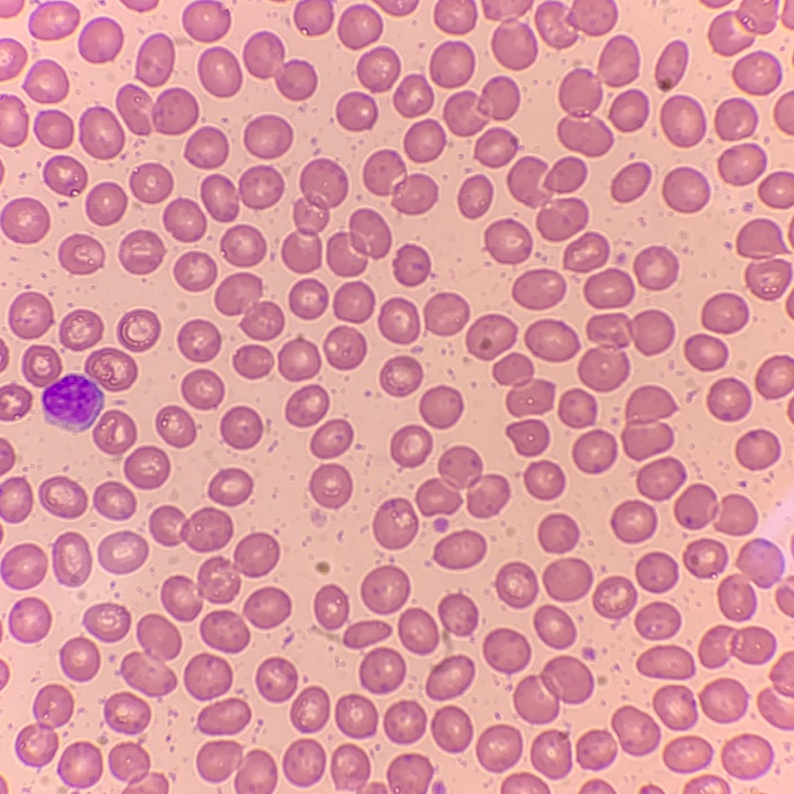RBC: (557, 35, 639, 156), (22, 345, 137, 431), (578, 310, 674, 391), (282, 159, 347, 272), (507, 156, 588, 241), (416, 446, 509, 518), (198, 533, 279, 603), (514, 656, 593, 723), (120, 614, 181, 696), (243, 32, 316, 100), (15, 684, 73, 766), (363, 150, 437, 214), (201, 166, 283, 222), (443, 76, 519, 136), (215, 273, 283, 340), (737, 218, 792, 300), (327, 209, 391, 276), (196, 741, 277, 793), (675, 484, 757, 535), (622, 386, 675, 459), (149, 506, 232, 552), (709, 0, 778, 55), (493, 353, 554, 415), (699, 626, 776, 668), (361, 565, 409, 614), (612, 706, 660, 755), (660, 95, 706, 146), (79, 107, 124, 159), (737, 538, 784, 587), (373, 498, 418, 549), (722, 734, 773, 779), (525, 319, 579, 361), (466, 314, 516, 359), (184, 654, 232, 700), (0, 198, 49, 243), (151, 88, 198, 134), (476, 725, 522, 772), (198, 47, 241, 97), (359, 647, 405, 693), (662, 167, 709, 212), (700, 678, 747, 723), (733, 51, 781, 95), (426, 656, 474, 700), (637, 457, 686, 500), (543, 558, 592, 601), (200, 610, 249, 653), (52, 532, 91, 586), (98, 531, 148, 573), (513, 269, 565, 309), (492, 23, 537, 69), (0, 544, 46, 589), (485, 219, 532, 263), (483, 629, 530, 673), (244, 115, 292, 158), (430, 41, 474, 87), (9, 292, 53, 338), (58, 742, 102, 788), (93, 410, 136, 457), (39, 476, 87, 518), (584, 268, 634, 308), (28, 0, 79, 39), (434, 530, 485, 569), (78, 17, 122, 62), (653, 685, 697, 730), (136, 34, 174, 86), (283, 739, 325, 786), (718, 144, 766, 185), (197, 698, 250, 735), (637, 645, 694, 679), (338, 4, 382, 48), (634, 246, 678, 290), (357, 47, 400, 92), (124, 446, 169, 489), (611, 500, 656, 543), (104, 692, 150, 734), (183, 0, 230, 41), (535, 1, 576, 48), (531, 730, 571, 778), (707, 378, 751, 421), (573, 430, 617, 473), (309, 464, 352, 508), (424, 293, 469, 335), (8, 597, 50, 642), (220, 225, 266, 266), (496, 562, 537, 608), (244, 587, 290, 628), (431, 706, 472, 752), (120, 230, 163, 273), (285, 384, 328, 427), (24, 60, 68, 102), (335, 694, 377, 738), (378, 298, 419, 343), (256, 657, 297, 702), (563, 232, 609, 272), (58, 234, 104, 274), (702, 293, 748, 333), (161, 575, 201, 621), (398, 608, 438, 654), (83, 603, 130, 642), (290, 686, 329, 733), (663, 736, 712, 773), (164, 198, 206, 241), (117, 309, 160, 351), (324, 326, 366, 369), (278, 338, 320, 381), (593, 576, 636, 618), (43, 155, 87, 196), (715, 98, 757, 140), (420, 386, 462, 428), (390, 425, 432, 467), (185, 127, 228, 168), (221, 406, 262, 449), (534, 605, 575, 648), (384, 701, 425, 744), (736, 430, 780, 470), (387, 754, 432, 793), (567, 0, 617, 35), (718, 575, 756, 621), (404, 120, 445, 162), (178, 320, 220, 361), (380, 355, 422, 396), (393, 74, 433, 117), (129, 163, 172, 203), (86, 182, 126, 225), (59, 310, 102, 350), (181, 369, 224, 409), (59, 638, 99, 681), (474, 128, 518, 167), (683, 539, 727, 578), (331, 744, 369, 789), (333, 281, 374, 322), (755, 355, 793, 399), (636, 602, 680, 640), (116, 85, 149, 135), (156, 406, 196, 447), (636, 552, 677, 592), (609, 89, 648, 131), (311, 419, 353, 458), (209, 468, 252, 506), (576, 730, 616, 770), (438, 594, 477, 635), (174, 252, 216, 290), (93, 481, 135, 519), (684, 334, 727, 371), (655, 41, 687, 90), (611, 162, 650, 202), (289, 279, 328, 319), (538, 514, 578, 553), (336, 92, 377, 130), (524, 461, 565, 499), (506, 420, 549, 456), (34, 109, 73, 148), (394, 244, 430, 286), (314, 585, 348, 629), (559, 389, 597, 428), (545, 157, 586, 193), (108, 743, 149, 779), (458, 175, 492, 218), (0, 94, 28, 146), (0, 477, 32, 522), (434, 0, 476, 34), (294, 0, 333, 35), (758, 691, 793, 730), (233, 345, 273, 378), (343, 620, 390, 648), (758, 171, 793, 208), (0, 385, 31, 420), (770, 652, 793, 696), (0, 43, 26, 80), (501, 773, 549, 793), (774, 91, 793, 134), (776, 587, 793, 616), (0, 439, 14, 473), (581, 780, 613, 793), (684, 777, 708, 793), (482, 0, 500, 19), (124, 0, 157, 10), (153, 774, 168, 793), (378, 0, 398, 14), (514, 0, 532, 14), (0, 4, 18, 16), (367, 783, 386, 793), (434, 518, 447, 531), (403, 0, 417, 12), (705, 0, 727, 7), (786, 295, 793, 315), (641, 786, 661, 793), (124, 787, 145, 793), (583, 648, 594, 659), (433, 783, 445, 793), (317, 562, 328, 572), (0, 662, 8, 675), (0, 342, 7, 355), (788, 401, 793, 418), (0, 781, 6, 793), (616, 255, 624, 263), (789, 226, 793, 239), (0, 360, 5, 369)
